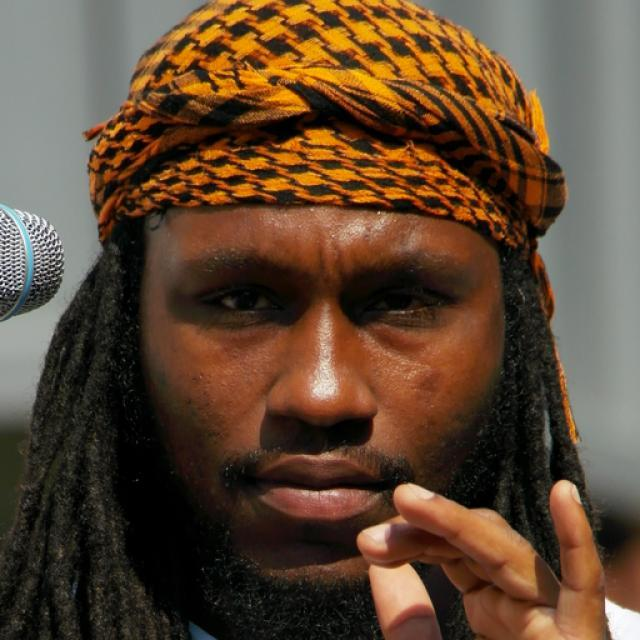anger: (135, 109, 505, 595)
